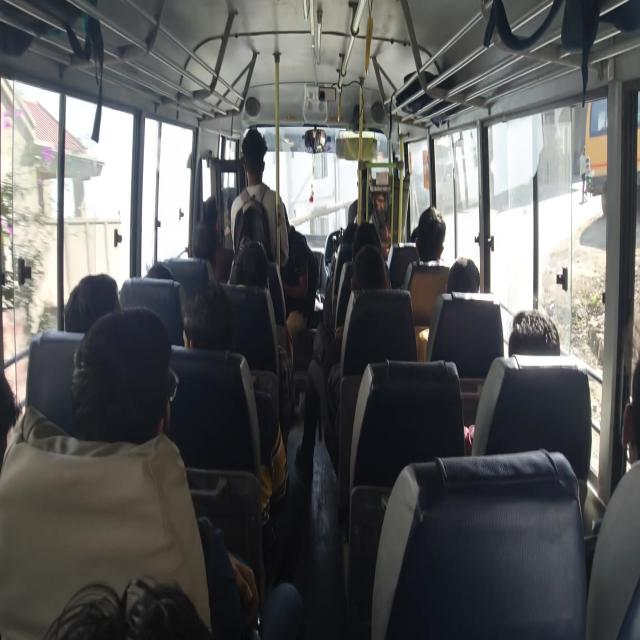person: (69, 304, 303, 638), (182, 280, 290, 519), (295, 243, 391, 479), (229, 128, 316, 336), (69, 306, 175, 444), (464, 308, 560, 454), (43, 574, 212, 639), (230, 127, 290, 268), (417, 256, 480, 361), (190, 195, 233, 283), (402, 205, 446, 290), (63, 272, 121, 333), (508, 308, 560, 357), (620, 358, 640, 467), (0, 370, 21, 470), (415, 205, 446, 264), (446, 256, 479, 293), (579, 146, 587, 203)
